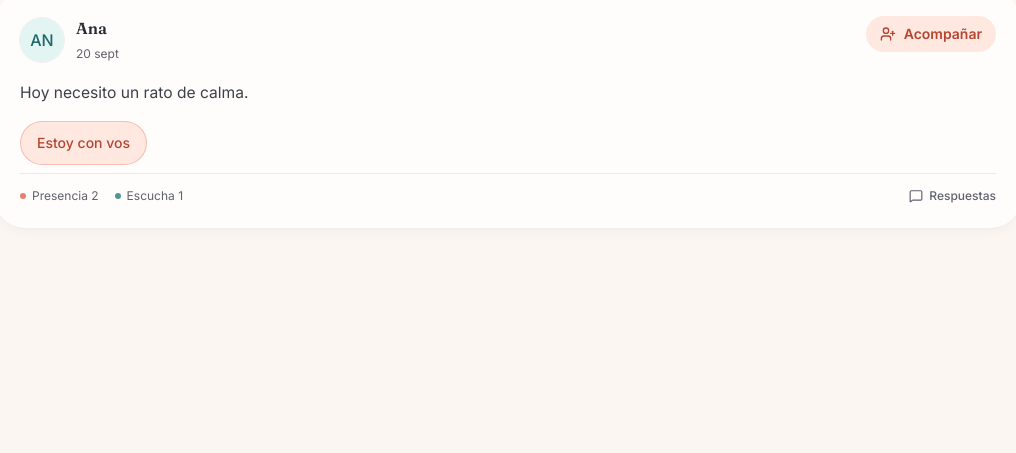
PostCard responses › moves WITH_YOU to LISTENING and updates both counts
Click the button "Estoy con vos": (84, 143) [20,121,147,165]
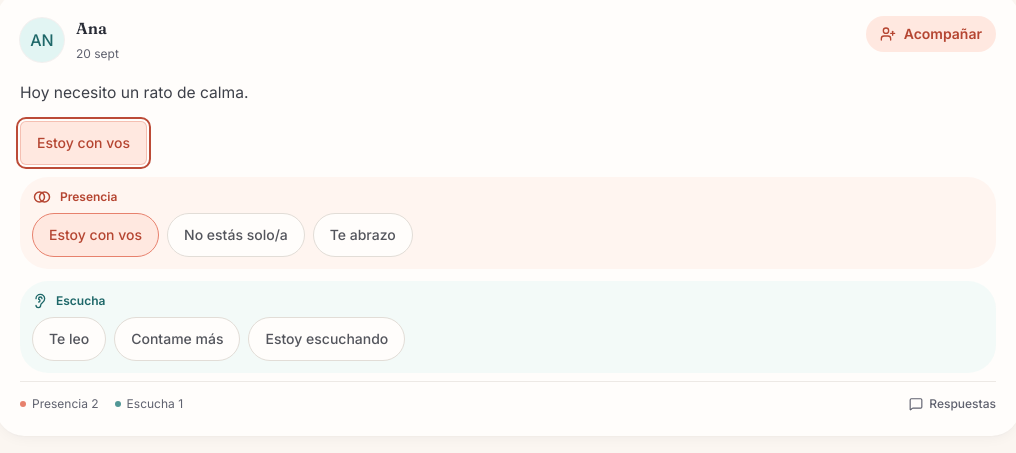
Click the button "Estoy escuchando": (327, 339) [248,317,405,361]
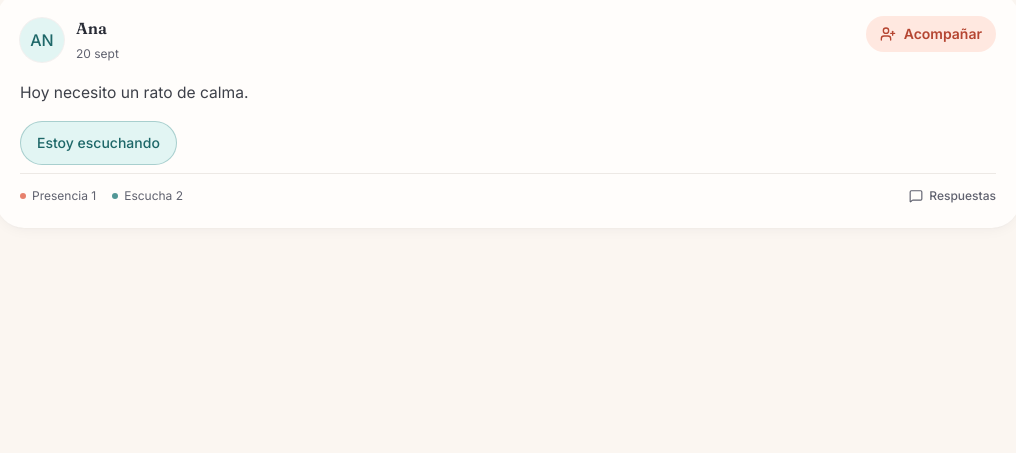
Result: the text "Presencia 1" is shown at [20,188,96,204]
Result: the text "Escucha 2" is shown at [112,188,183,204]
Result: the button "Estoy escuchando" is shown at [20,121,177,165]
